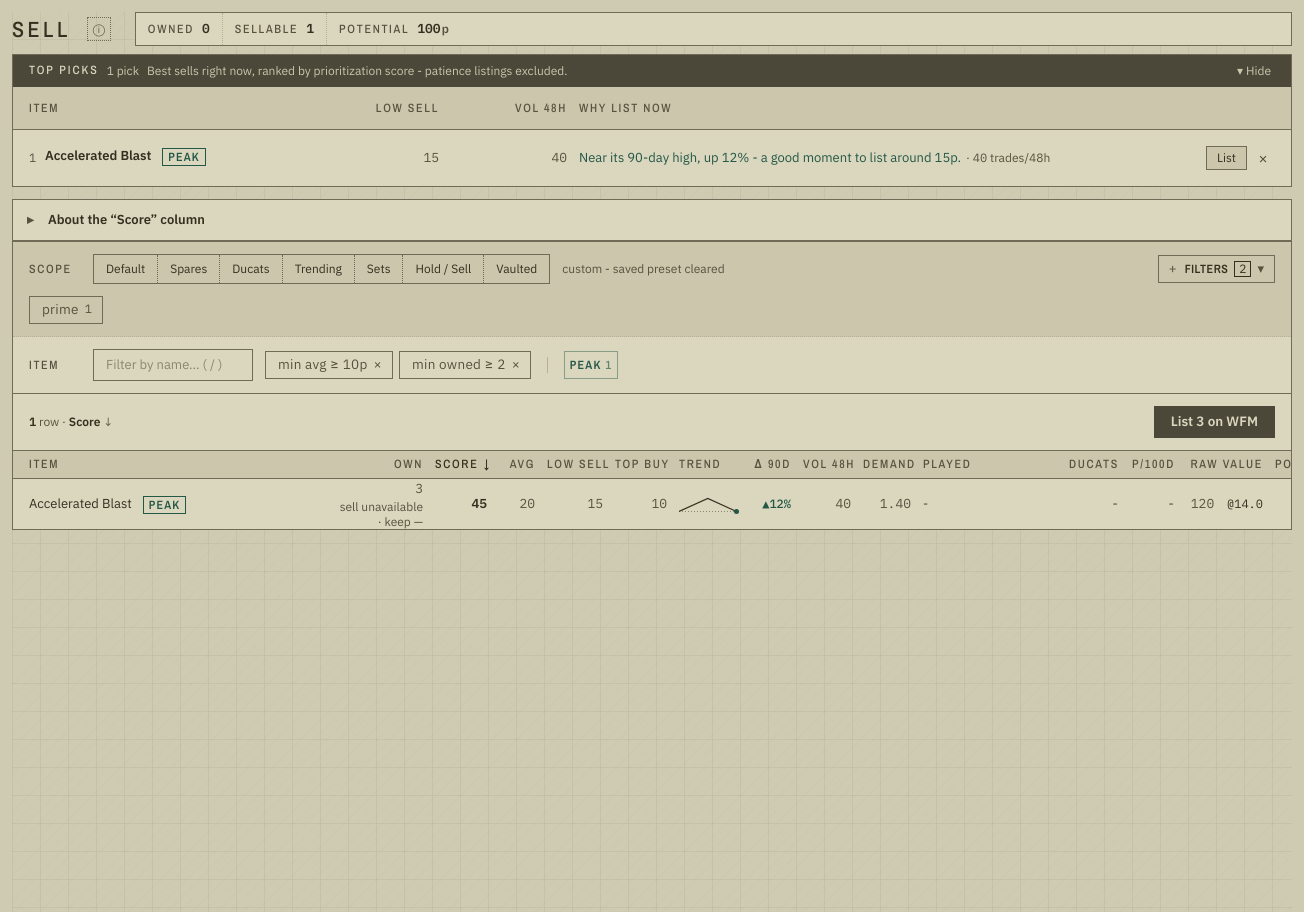
it: SellPane › snoozes a pick for the session
The width and height of the screenshot is (1304, 912).
Expected: the button with aria-label "List Accelerated Blast on WFM" is shown, left=1206, top=146, right=1247, bottom=170
Click the button named "Hide Accelerated Blast for this session" at x=1263, y=158, box left=1251, top=146, right=1275, bottom=170
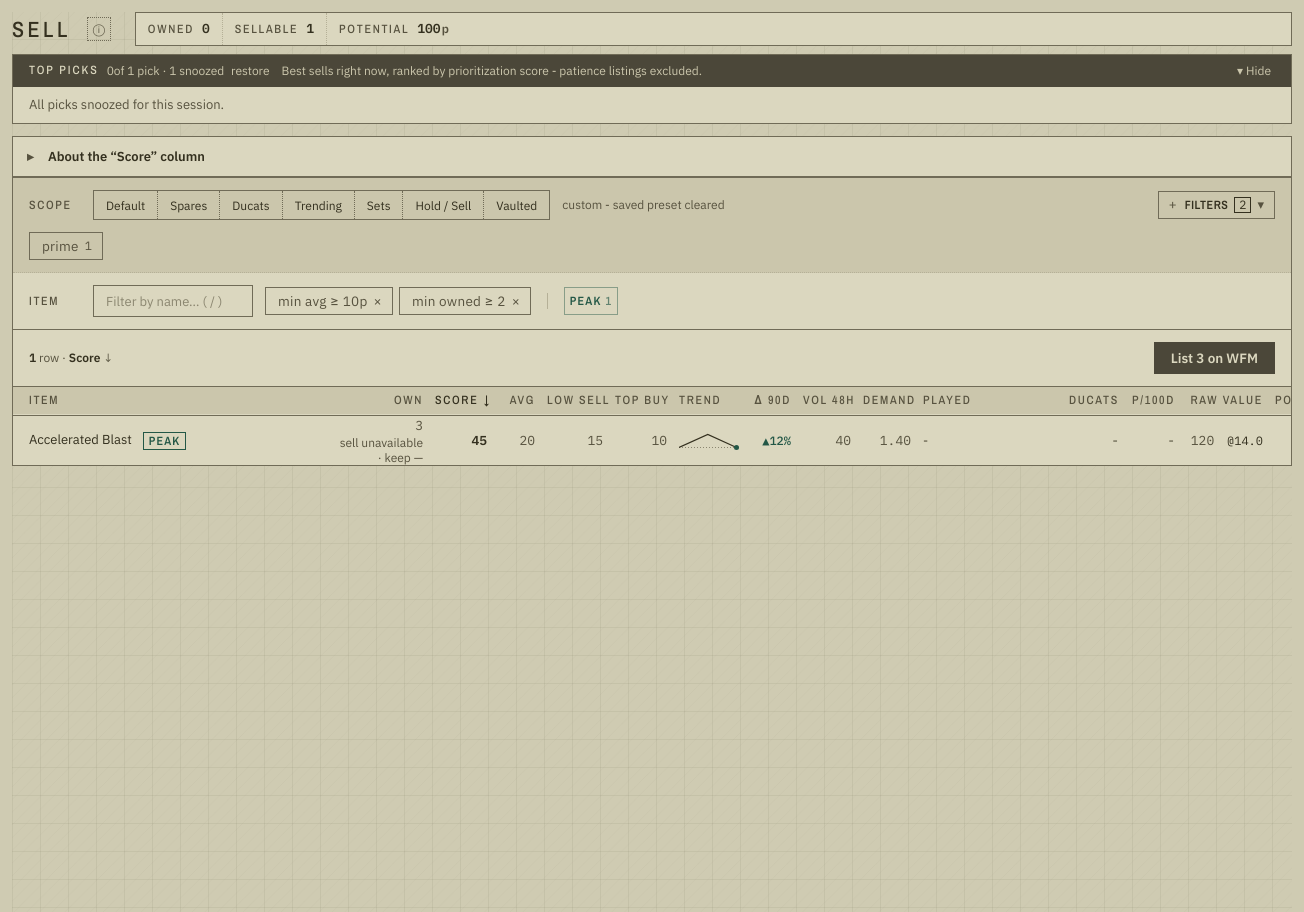
Now the text "All picks snoozed for this session." is shown, box left=29, top=96, right=224, bottom=113
